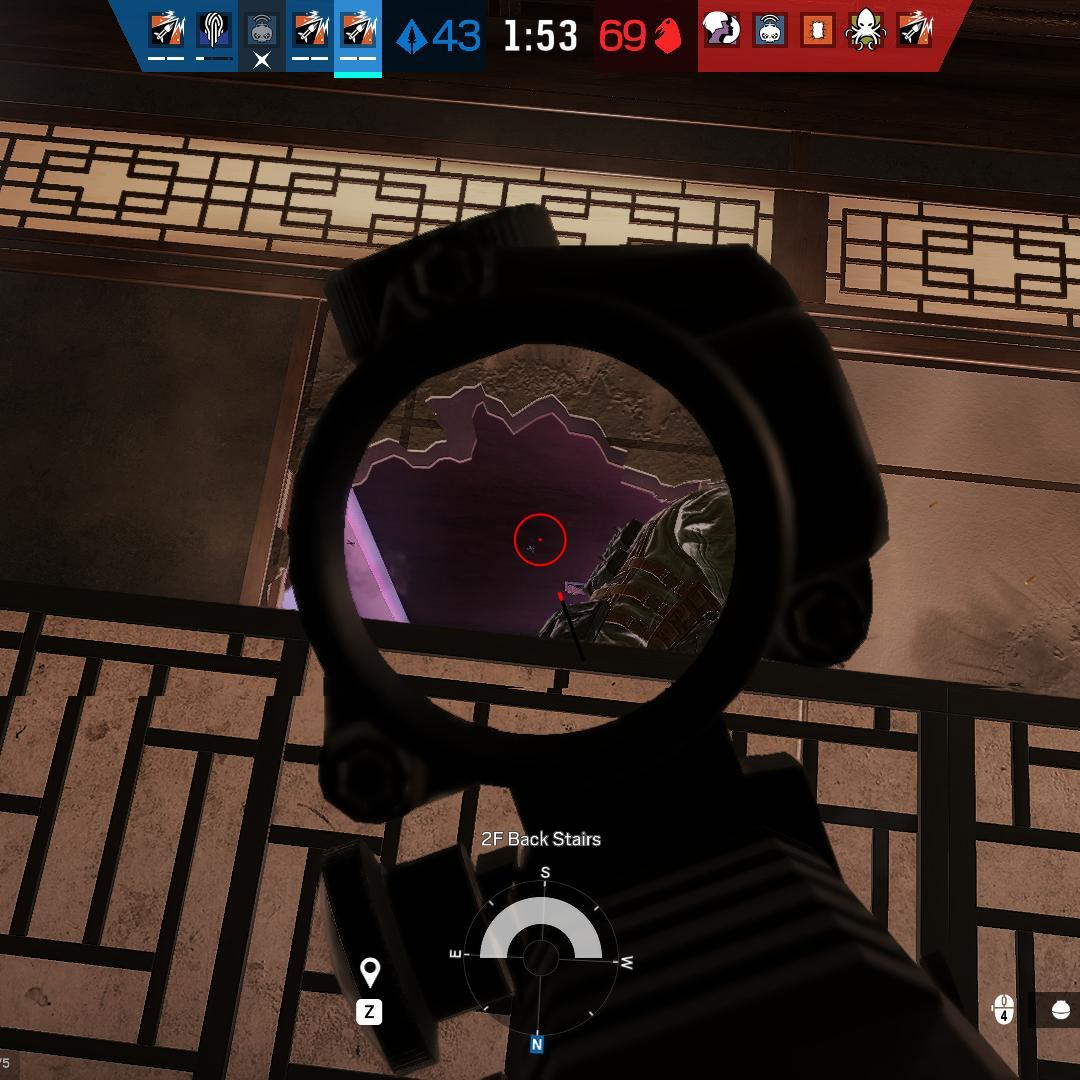Character: (533, 479, 741, 658)
